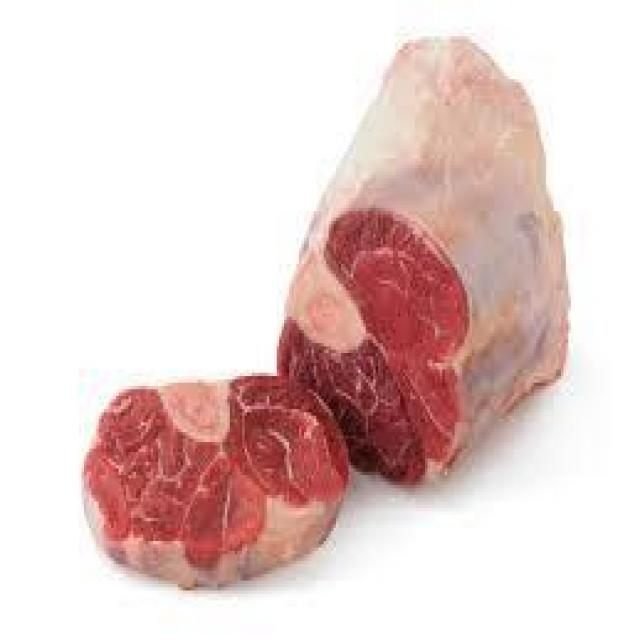beef: (73, 384, 353, 597)
